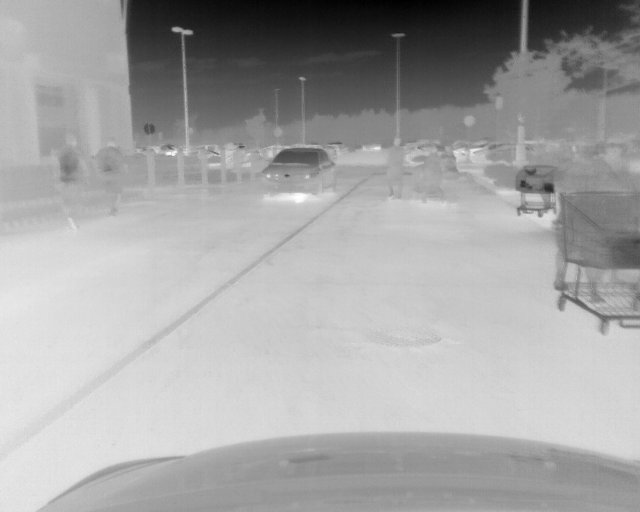car: (260, 148, 337, 197)
people: (556, 132, 601, 303), (605, 134, 637, 288), (55, 134, 86, 233), (92, 137, 126, 215), (530, 135, 549, 212), (421, 142, 444, 204), (384, 136, 405, 199), (440, 144, 460, 205), (551, 135, 574, 160)
